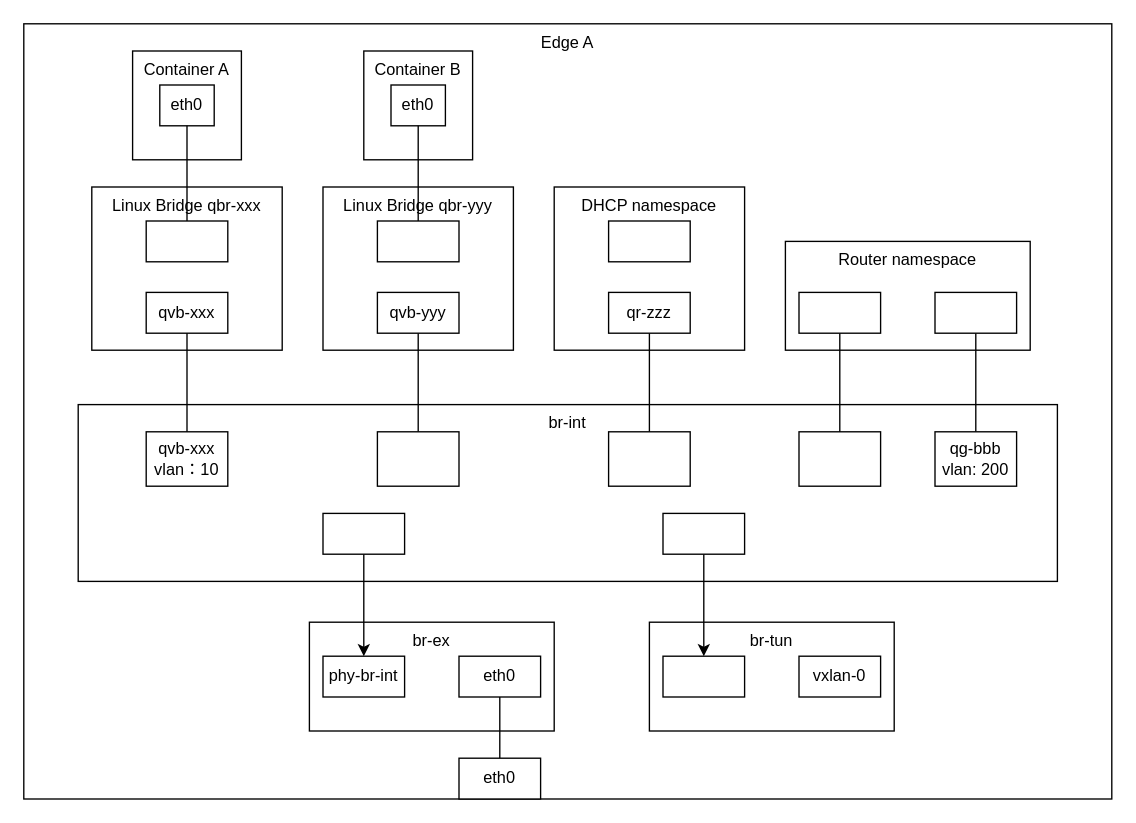
The diagram is 1136 pixels wide and 823 high, and some of its shapes have lost their labels. Each missing label, with the centre of its shape:
"dnsmasq" goes at (648,241).
"int-br-ex" goes at (363,533).
"patch-int" goes at (703,676).
"patch-tun" goes at (703,533).
"qg-bbb" goes at (975,312).
"qr-aaa" goes at (839,312).
"qr-aaa vlan: 10" goes at (839,458).
"qr-zzz vlan: 10" goes at (648,458).
"qvb-yyy vlan: 10" goes at (417,458).
"tap-xxx" goes at (186,241).
"tap-yyy" goes at (417,241).
